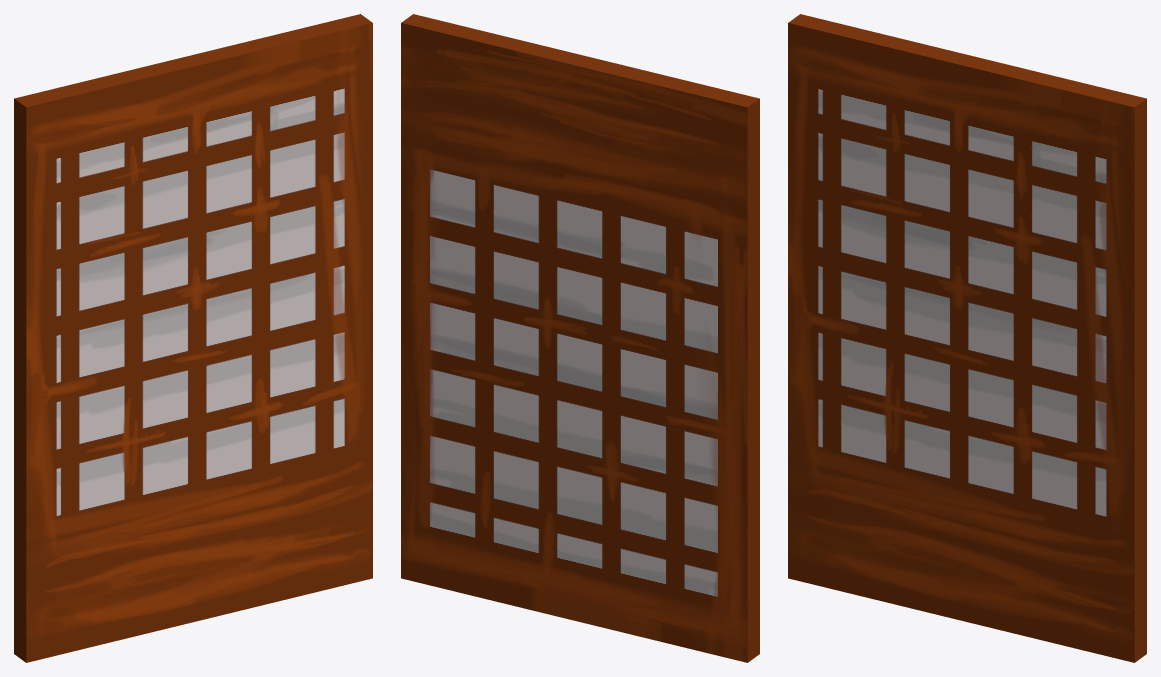
The model's file is 10pieceDoor.fbx.
3 views of the same model, side by side, from view 1: azimuth 30°, elevation 25°; view 2: azimuth 150°, elevation 25°; view 3: azimuth 330°, elevation 25° (orthographic).
Parts seen in each view (by area): view 1: Door10piece, Door10piece.008, Door10piece.007, Door10piece.009, Door10piece.003, Door10piece.002, Door10piece.005, Door10piece.006, Door10piece.004, Door10piece.001; view 2: Door10piece, Door10piece.008, Door10piece.007, Door10piece.009, Door10piece.003, Door10piece.002, Door10piece.005, Door10piece.006, Door10piece.004, Door10piece.001; view 3: Door10piece, Door10piece.008, Door10piece.009, Door10piece.007, Door10piece.003, Door10piece.002, Door10piece.006, Door10piece.005, Door10piece.004, Door10piece.001.
Boxes of the visible parts, x1,y1,x2,y2 form: Door10piece: (159,393,372,620); Door10piece.008: (14,423,199,662); Door10piece.007: (14,162,143,477); Door10piece.009: (86,250,308,435); Door10piece.003: (260,14,372,228); Door10piece.002: (83,35,285,161); Door10piece.005: (199,153,308,353); Door10piece.006: (286,208,372,414); Door10piece.004: (83,157,199,270); Door10piece.001: (14,77,112,199); Door10piece: (401,393,614,620); Door10piece.008: (574,423,759,662); Door10piece.007: (630,162,759,477); Door10piece.009: (465,250,687,435); Door10piece.003: (401,14,513,228); Door10piece.002: (488,35,690,161); Door10piece.005: (465,153,574,353); Door10piece.006: (401,208,487,414); Door10piece.004: (574,157,690,270); Door10piece.001: (661,77,759,199); Door10piece: (921,435,1146,662); Door10piece.008: (788,367,961,620); Door10piece.009: (847,243,1070,456); Door10piece.007: (788,105,905,392); Door10piece.003: (1022,77,1146,292); Door10piece.002: (845,35,1059,182); Door10piece.006: (1048,271,1146,477); Door10piece.005: (961,158,1070,370); Door10piece.004: (845,105,961,250); Door10piece.001: (788,14,886,115).
Size of the model in its own units: 200 by 306 by 12.16.
